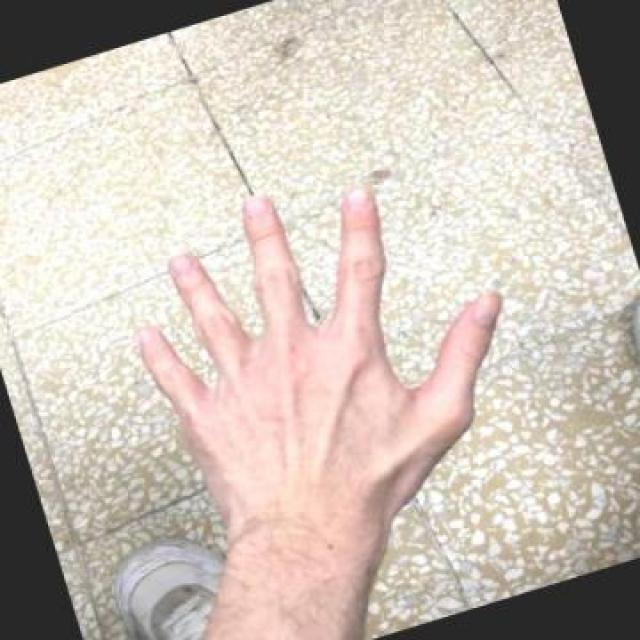no-gloves: (130, 178, 503, 493)
